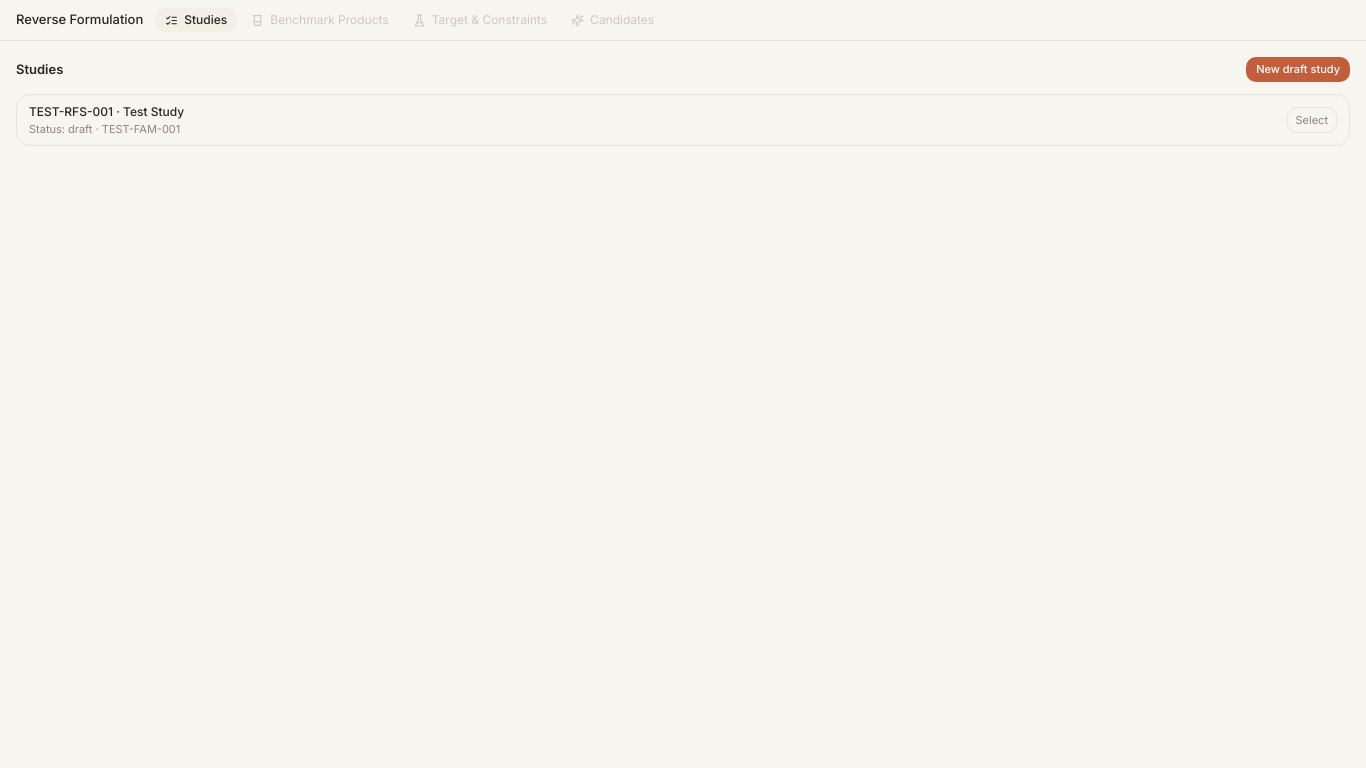
ReverseFormulationPage — candidate generation and scoring (real shared engine) › shows an honest empty-formula message with rejection reasons when evidence is insufficient, never a fabricated formula
Click the button "Select": [1312, 120] box [1287,106,1337,133]
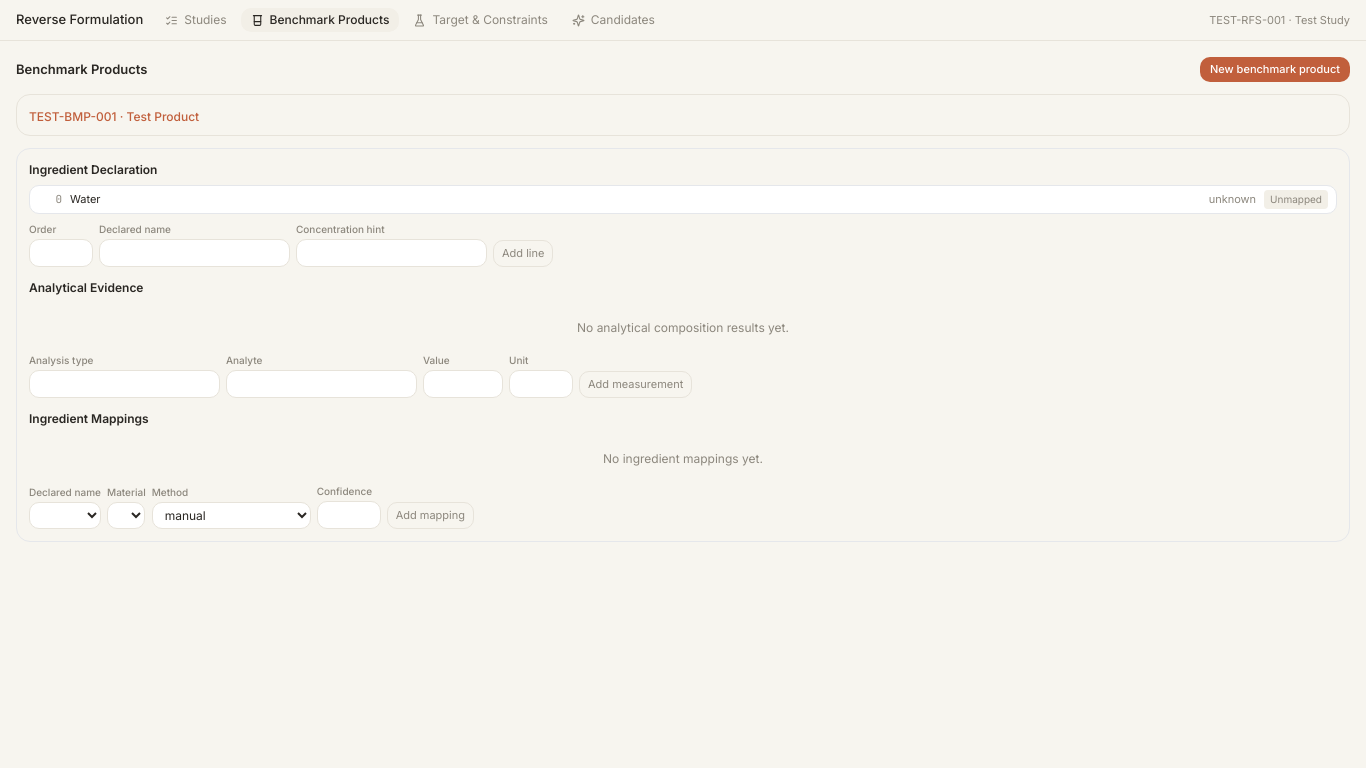
Click the button "Candidates": [613, 20] box [562,8,665,32]
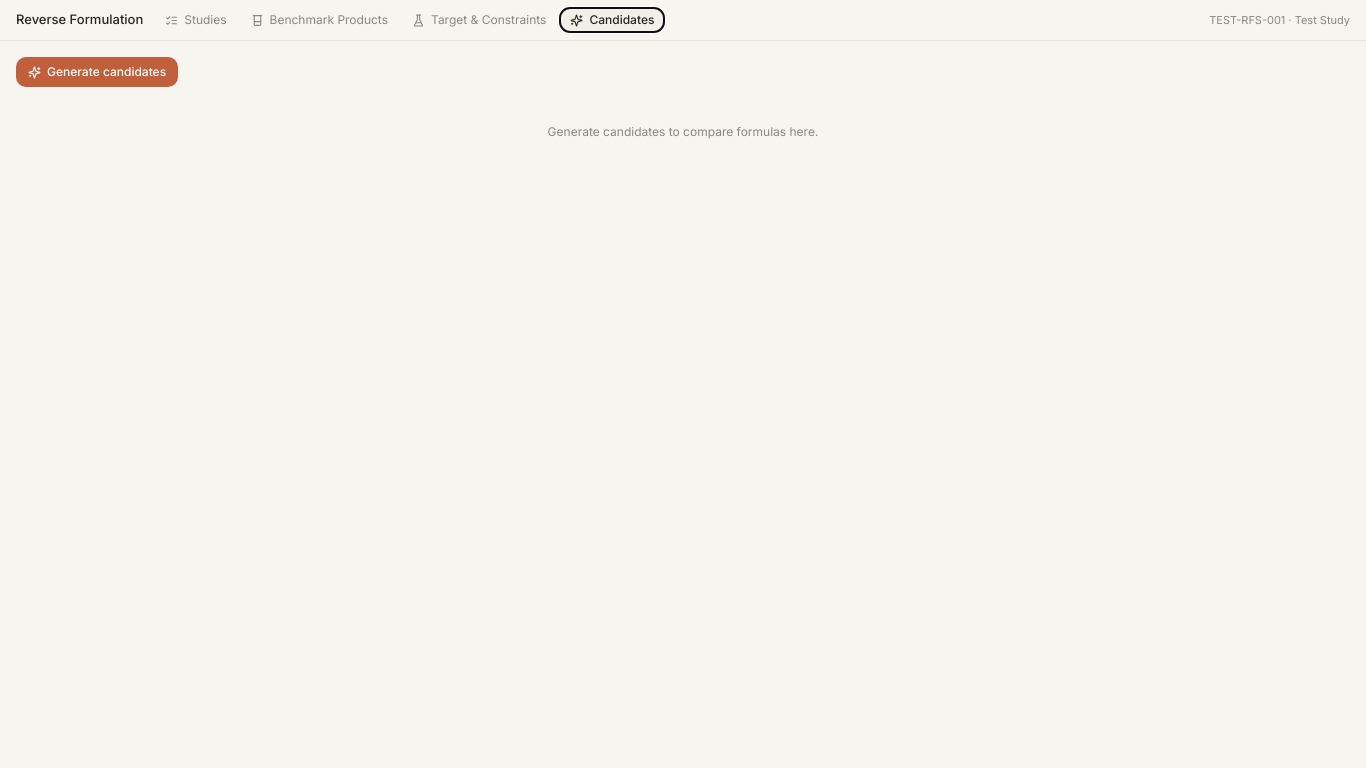
Click the button "Generate candidates": [97, 72] box [16,57,178,87]
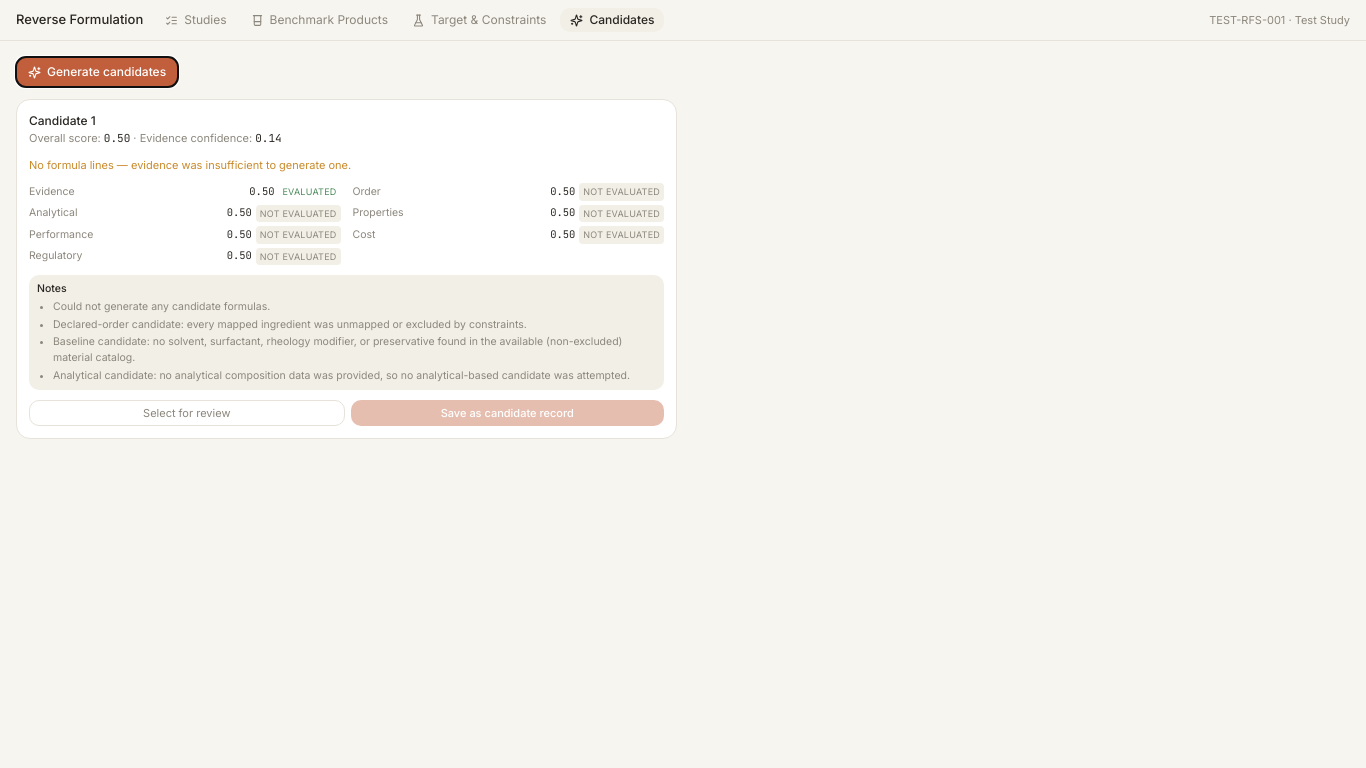
expect the text "No formula lines" is shown: met, box [29,158,351,172]
expect the list item "Could not generate any candidate formulas." is shown: met, box [53,300,270,313]
